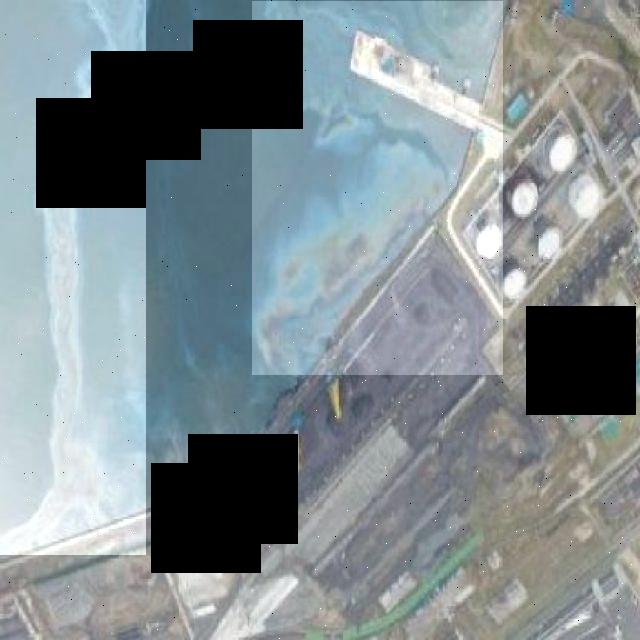oil spill: (252, 1, 503, 375), (0, 0, 146, 555)
